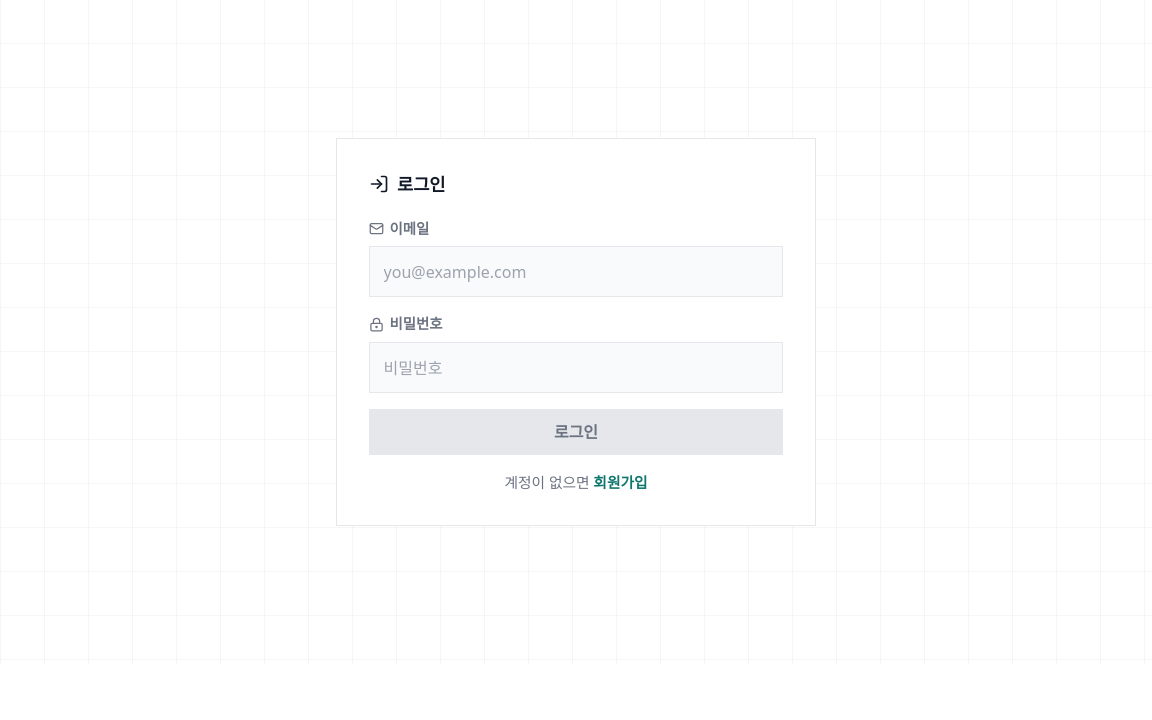
Test: LoginView › shows invalid credential errors from the login API
This screenshot has width=1152, height=720.
In the field with test id "login-email": (576, 272) [369,246,783,297], type "wrong@example.com"
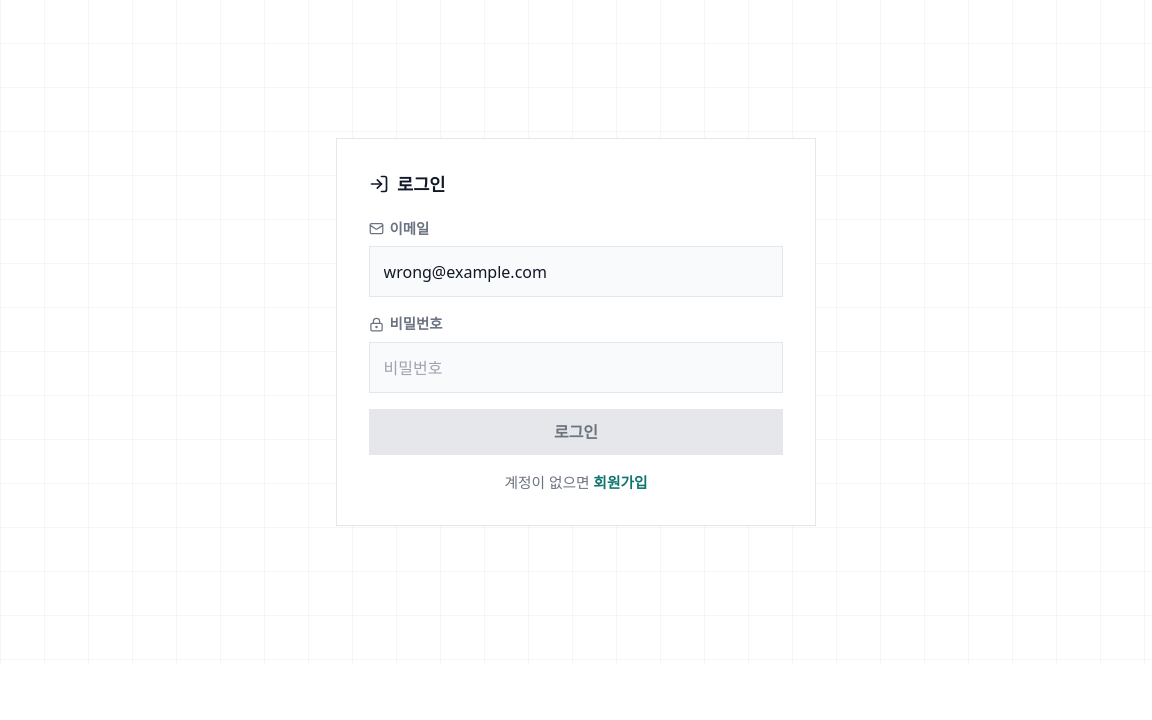
In the password field with test id "login-password": (576, 368) [369,342,783,393], type "Wrong1234"
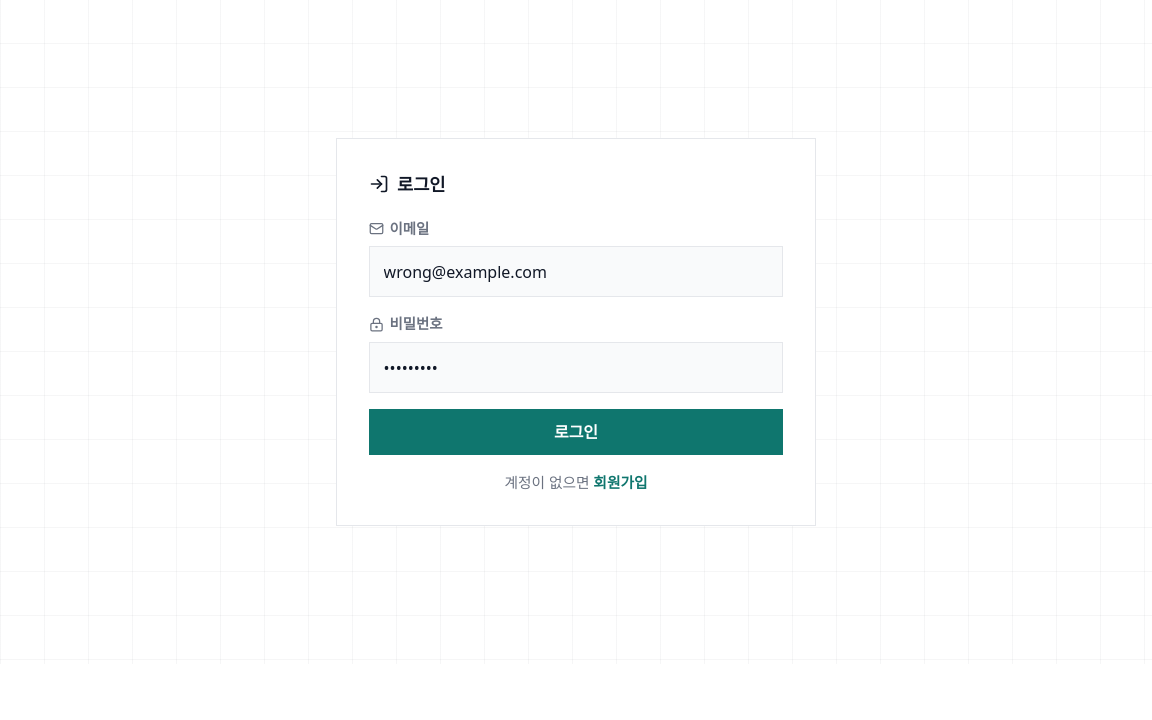
Submit the form with test id "login-form", box [337,139,815,525]
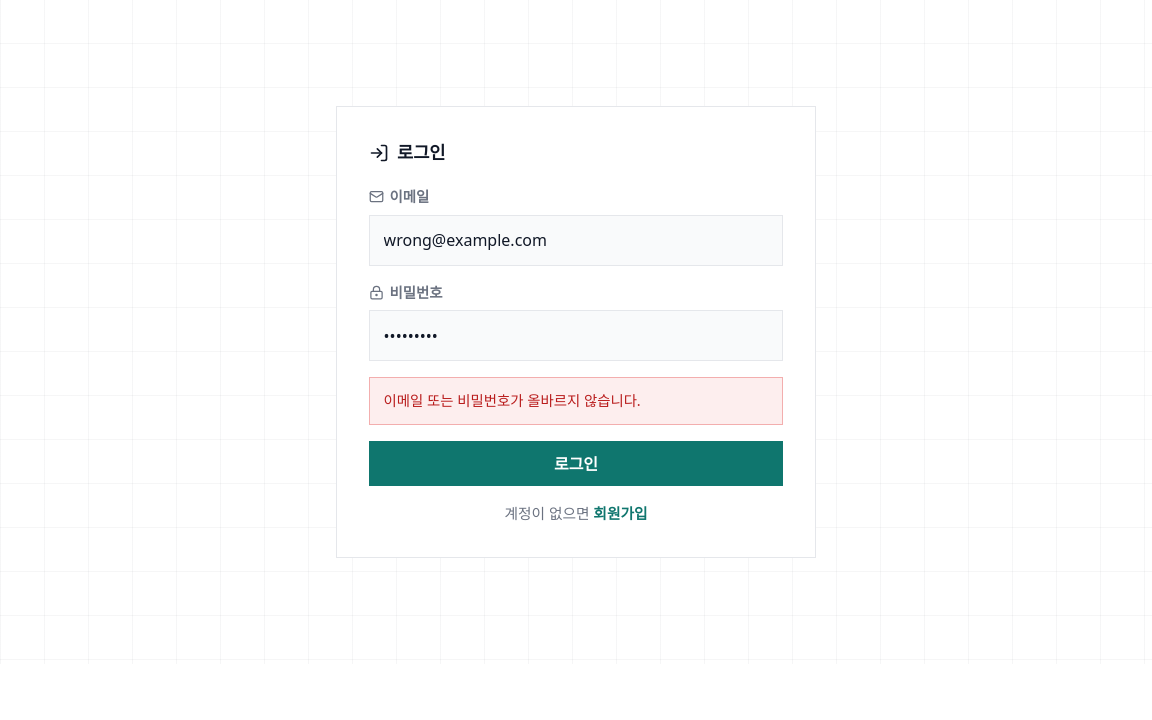
Expected: the text with test id "login-error" shows "올바르지 않습니다", [384,391,641,410]
